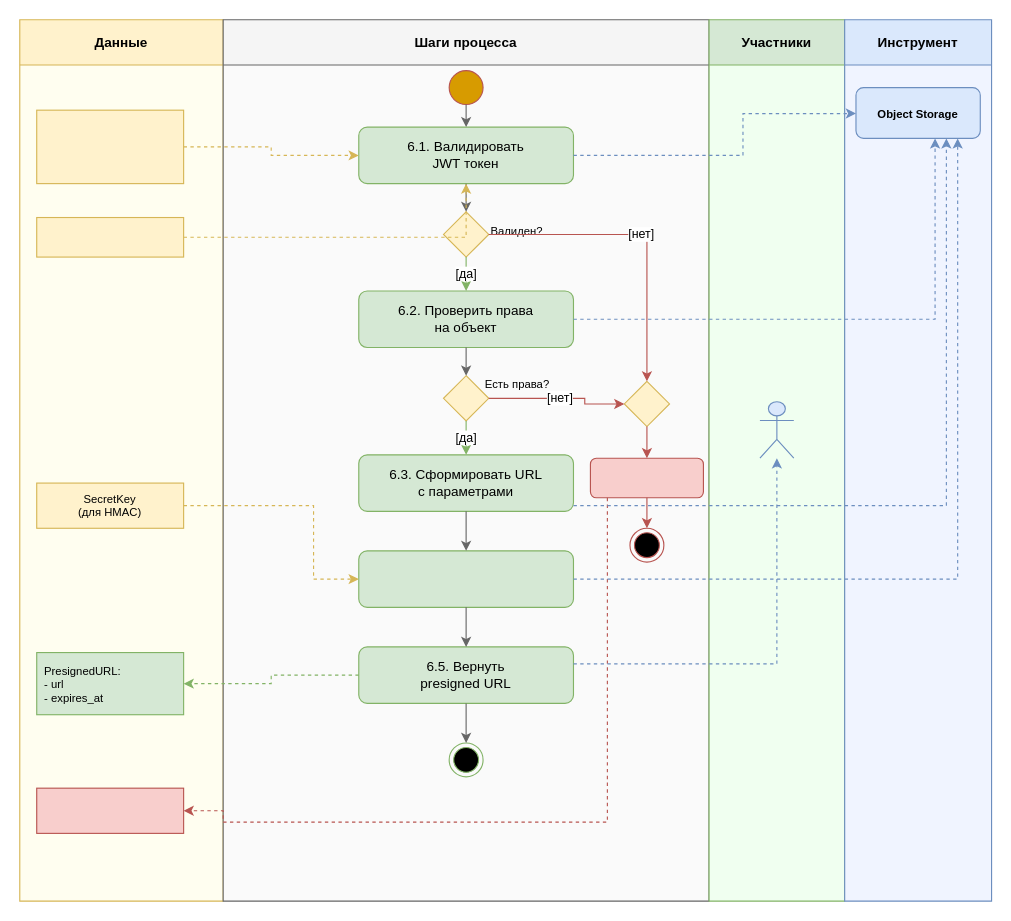
Image size: 1011x921. Some labels were removed from this diagram. Here are the shapes that lost their labels. From the top down, the centre of each, then its label:
At pixel 110 146: "PresignedRequest: - bucket - key - expires_in".
At pixel 110 236: "JWT Token".
At pixel 776 429: ":Пользователь".
At pixel 646 477: "Вернуть ошибку".
At pixel 465 578: "6.4. Подписать URL (HMAC-SHA256)".
At pixel 110 810: "Error: - code, message".
